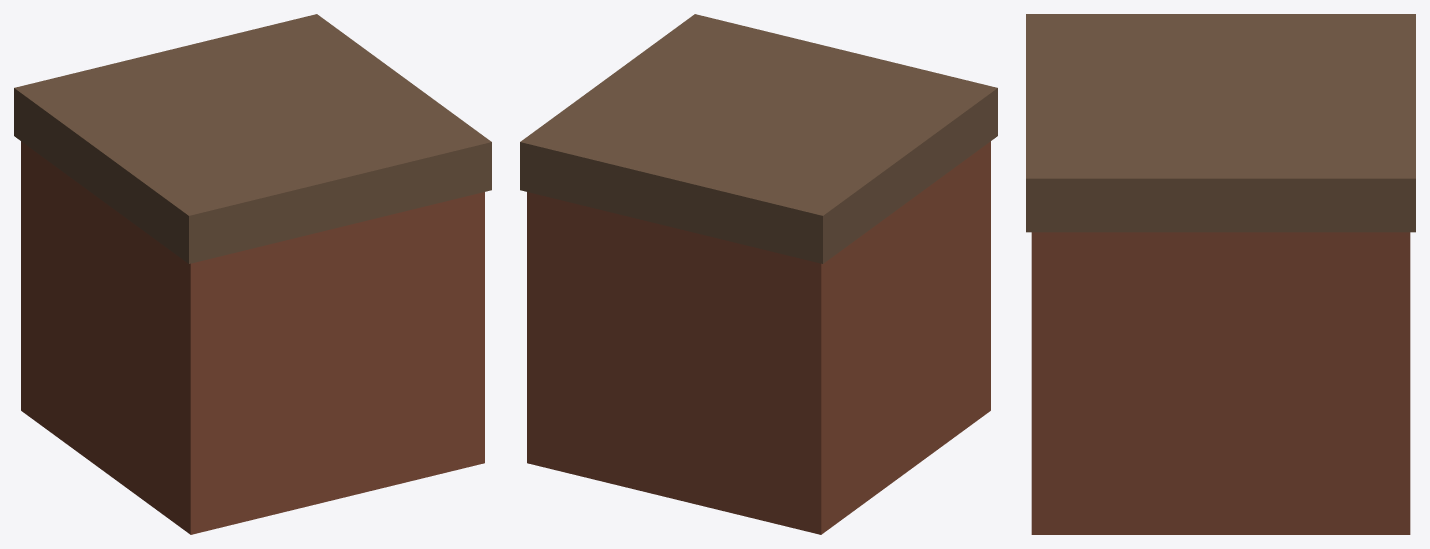
The model's file is counter.glb.
3 renders of one model, left to right at view 1: azimuth 30°, elevation 25°; view 2: azimuth 150°, elevation 25°; view 3: azimuth 270°, elevation 25°, orthographic. The views are drawn at different scales.
Visible parts, largest first — view 1: Counter, Cube; view 2: Counter, Cube; view 3: Counter, Cube.
Boxes of the visible parts, x1,y1,x2,y2 form: Counter: [21, 141, 484, 534]; Cube: [14, 14, 491, 263]; Counter: [527, 141, 990, 534]; Cube: [520, 14, 997, 263]; Counter: [1031, 232, 1410, 534]; Cube: [1026, 14, 1415, 232].
Size of the model in its own units: 1.03 by 1.05 by 1.03.
